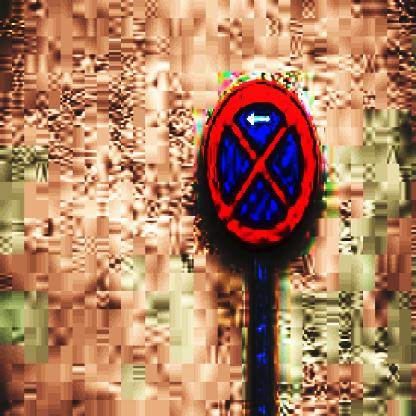No stopping: (200, 79, 322, 254)
